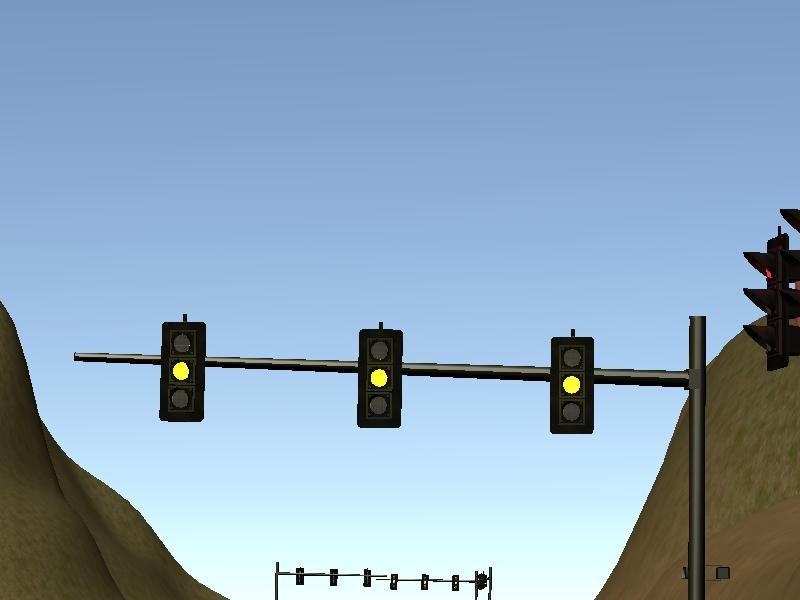YELLOW: (355, 324, 407, 431), (546, 327, 598, 434), (156, 317, 208, 424)
